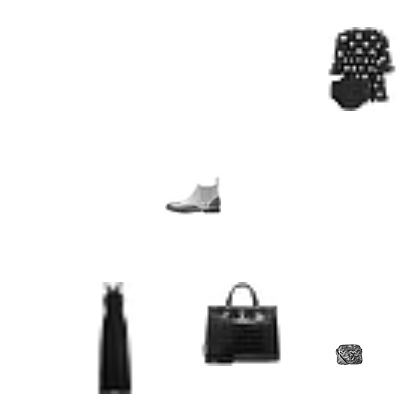Ankle_boot: (165, 166, 221, 222)
Bag: (199, 282, 283, 366), (335, 341, 363, 369)
Dress: (59, 282, 171, 394), (320, 27, 404, 111)
